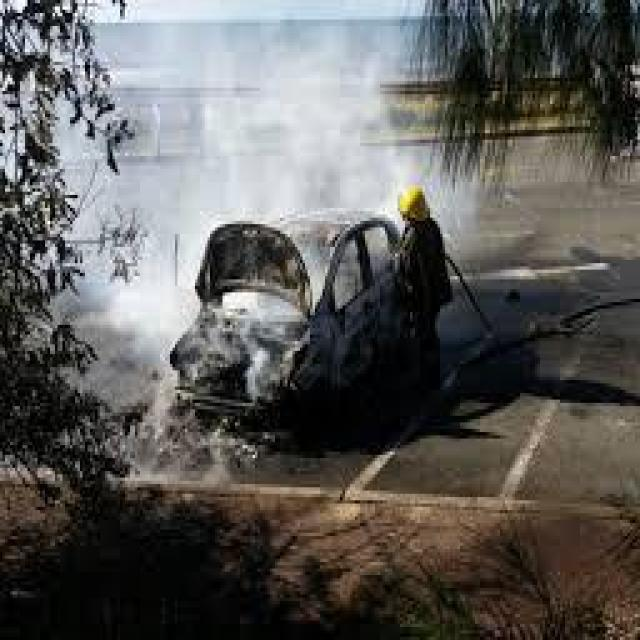other: (389, 177, 430, 223)
